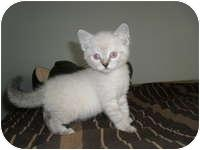siamese: (76, 19, 134, 76)
